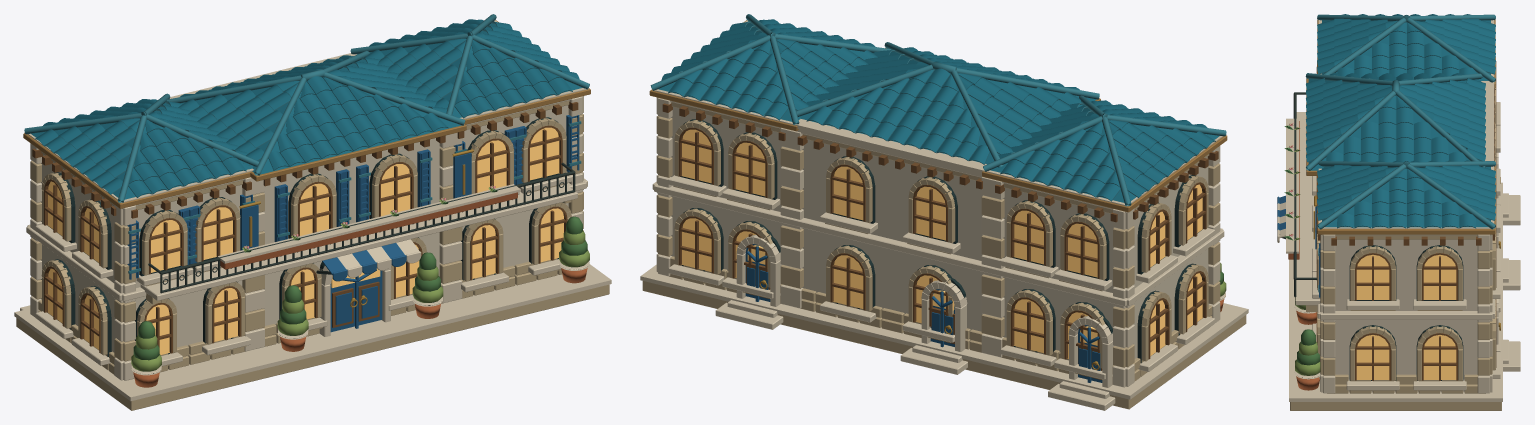
The picture shows the model from 3 angles, left to right: view 1: azimuth 30°, elevation 25°; view 2: azimuth 150°, elevation 25°; view 3: azimuth 270°, elevation 25°; orthographic projection. The views are drawn at different scales.
Parts seen in each view (by area): view 1: harbor_skyscraper_1_geometry; view 2: harbor_skyscraper_1_geometry; view 3: harbor_skyscraper_1_geometry.
Boxes of the visible parts, x1=… form: harbor_skyscraper_1_geometry: x1=14, y1=14, x2=611, y2=410; harbor_skyscraper_1_geometry: x1=640, y1=14, x2=1248, y2=410; harbor_skyscraper_1_geometry: x1=1277, y1=14, x2=1520, y2=410.
Size of the model in its own units: 2.14 by 1.02 by 1.02.
